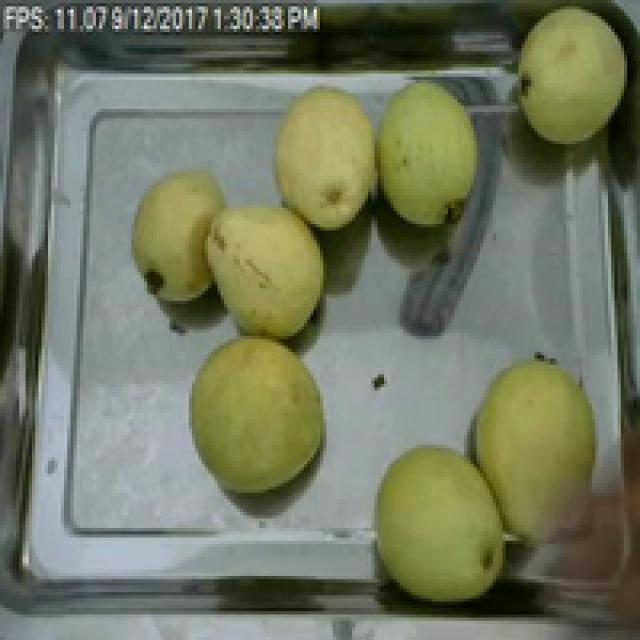Fruit: (461, 342, 621, 592), (362, 435, 522, 611), (182, 327, 336, 502), (195, 192, 336, 346), (364, 70, 490, 240), (262, 74, 388, 243), (506, 0, 636, 154), (125, 160, 237, 314)
